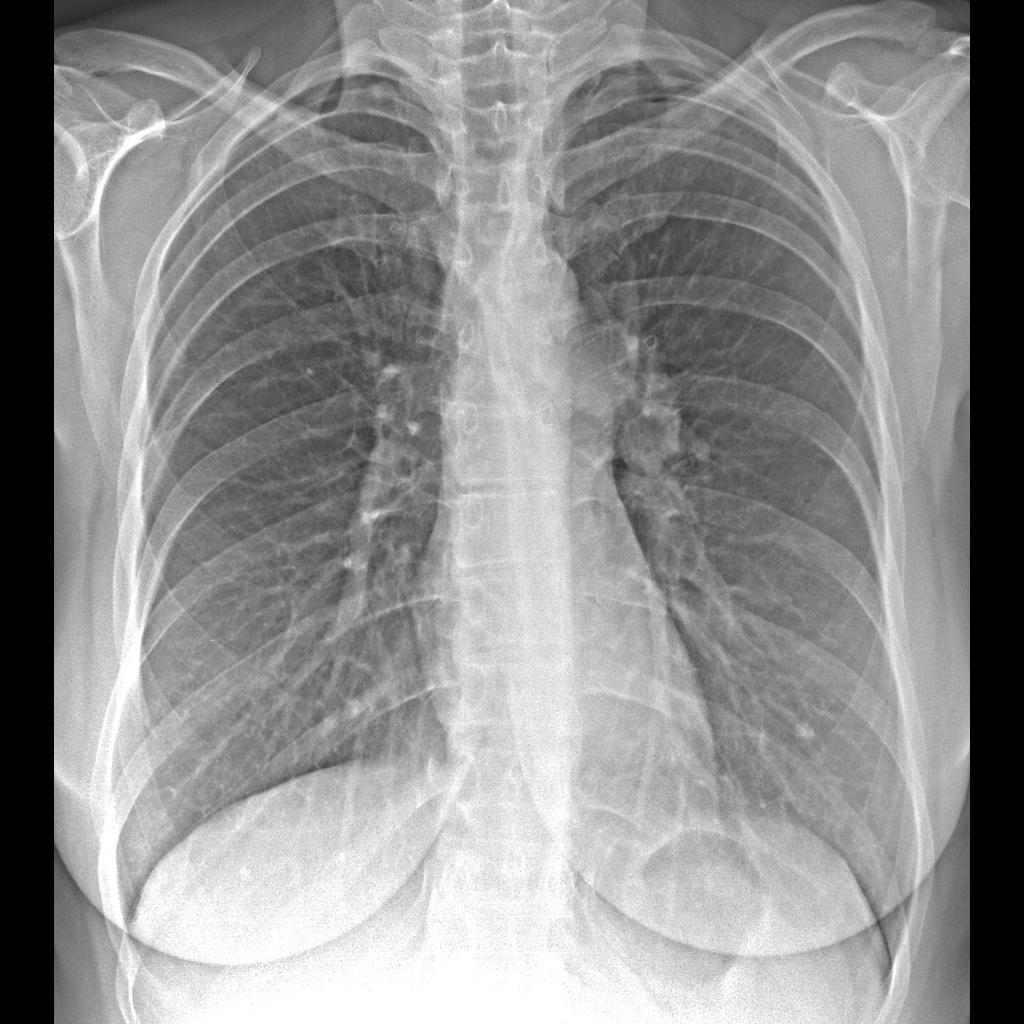Nodule: (789, 717, 823, 751)
